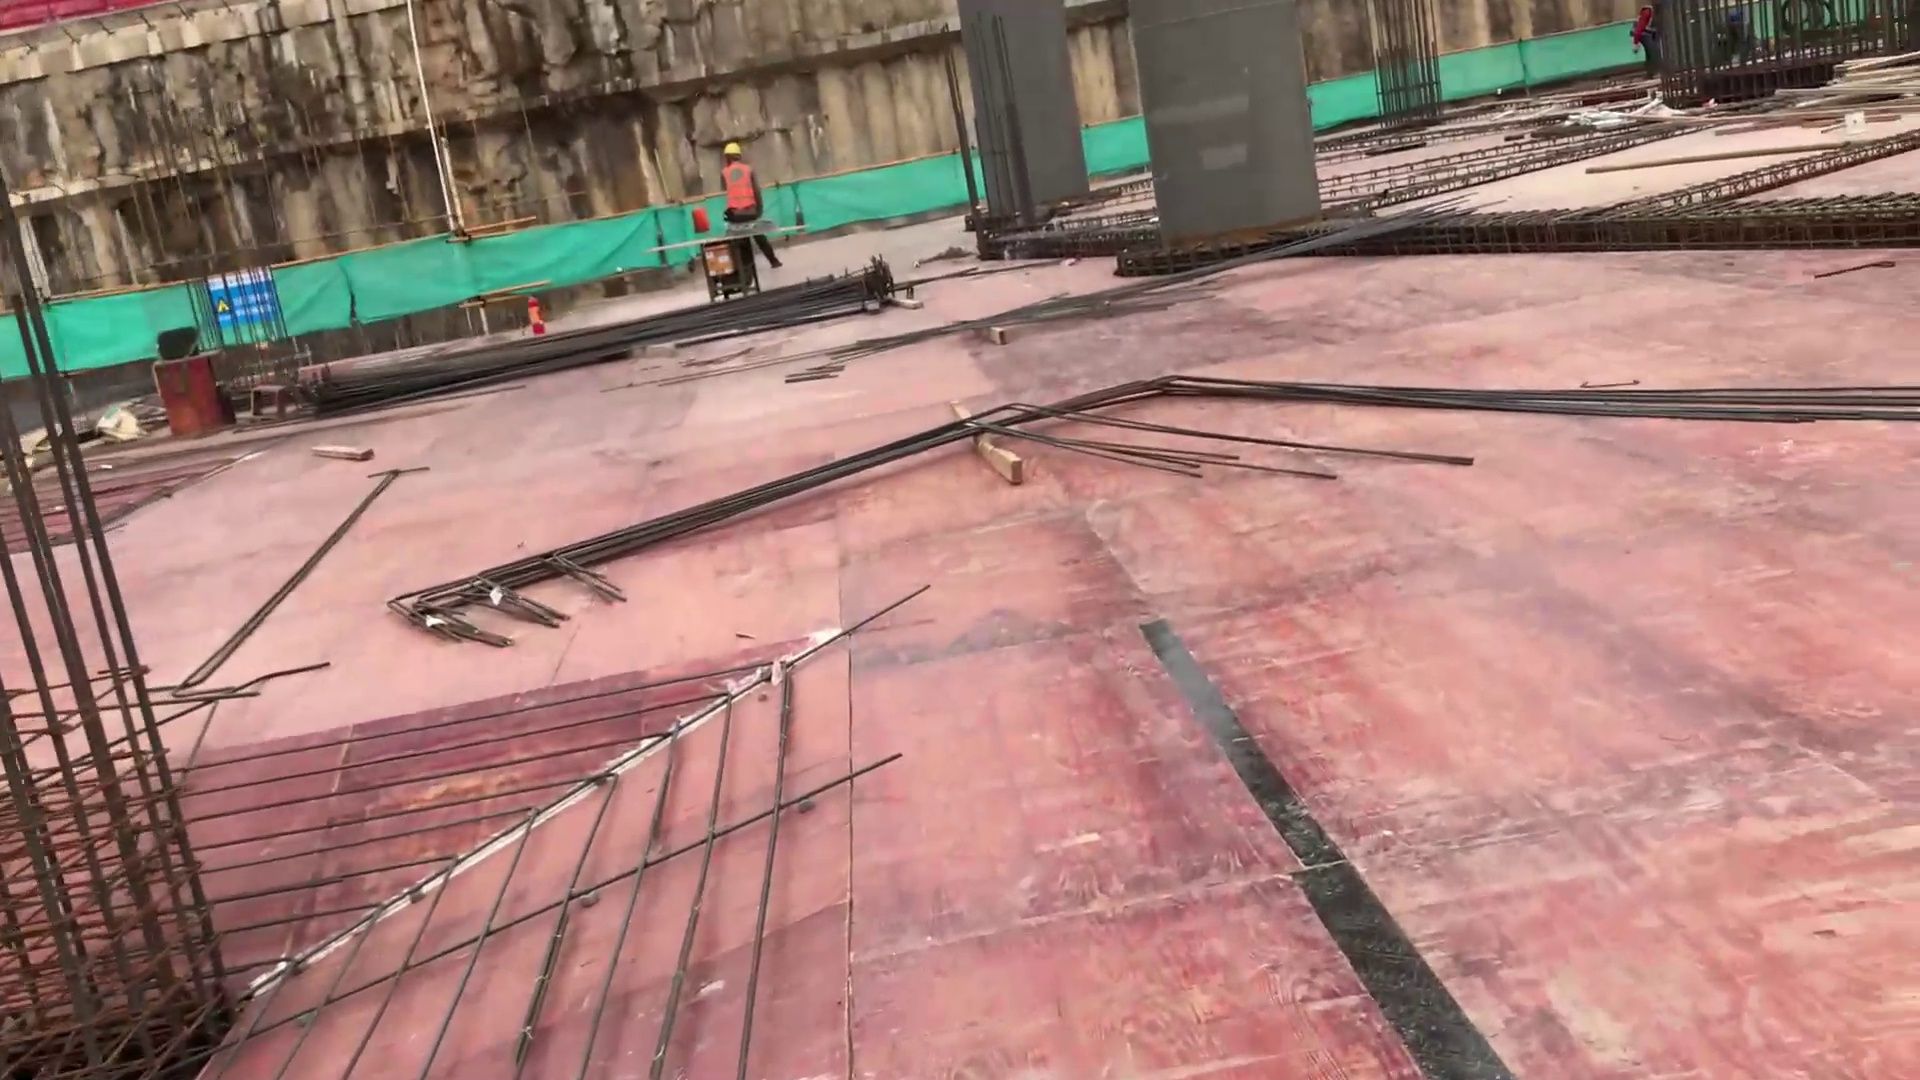cutter: (647, 223, 808, 299)
helmet: (723, 140, 742, 163)
person: (718, 140, 782, 272), (1628, 1, 1662, 77)
rebar: (389, 382, 1168, 653), (323, 264, 895, 415)
slogan: (204, 263, 283, 328)
vest: (721, 160, 759, 210), (1630, 3, 1658, 39)
